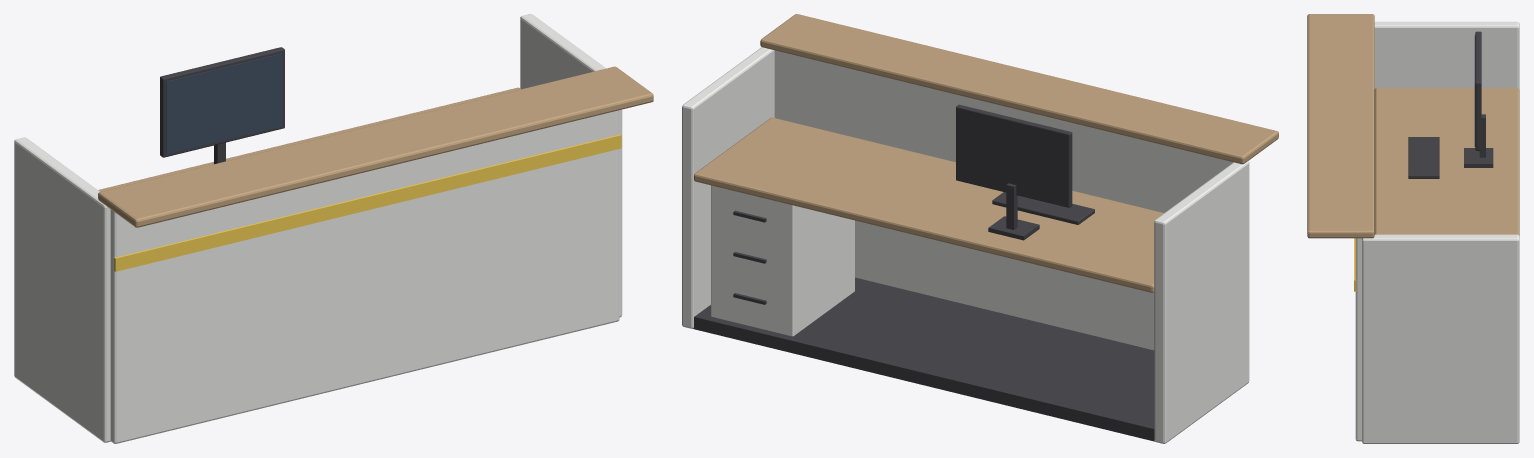
The model's file is INT_ReceptionDesk.fbx.
3 renders of one model, left to right at view 1: azimuth 30°, elevation 25°; view 2: azimuth 150°, elevation 25°; view 3: azimuth 270°, elevation 25°, orthographic. The views are drawn at different scales.
Visible parts, largest first — view 1: INT_ReceptionDesk_FrontPanel, INT_ReceptionDesk_SideL, INT_ReceptionDesk_Transaction_Top, INT_ReceptionDesk_MonitorScreen, INT_ReceptionDesk_AccentStrip, INT_ReceptionDesk_SideR, INT_ReceptionDesk_Monitor, INT_ReceptionDesk_WorkTop; view 2: INT_ReceptionDesk_FrontPanel, INT_ReceptionDesk_Plinth, INT_ReceptionDesk_WorkTop, INT_ReceptionDesk_SideL, INT_ReceptionDesk_Transaction_Top, INT_ReceptionDesk_Pedestal, INT_ReceptionDesk_SideR, INT_ReceptionDesk_Monitor, INT_ReceptionDesk_Keyboard, INT_ReceptionDesk_MonitorStand; view 3: INT_ReceptionDesk_SideR, INT_ReceptionDesk_WorkTop, INT_ReceptionDesk_Transaction_Top, INT_ReceptionDesk_SideL, INT_ReceptionDesk_FrontPanel, INT_ReceptionDesk_Keyboard, INT_ReceptionDesk_Monitor, INT_ReceptionDesk_MonitorStand, INT_ReceptionDesk_MonitorNeck, INT_ReceptionDesk_MonitorScreen.
Part boxes in pixels (x1=…): INT_ReceptionDesk_FrontPanel: x1=110, y1=110, x2=619, y2=443; INT_ReceptionDesk_SideL: x1=14, y1=137, x2=110, y2=442; INT_ReceptionDesk_Transaction_Top: x1=98, y1=66, x2=653, y2=227; INT_ReceptionDesk_MonitorScreen: x1=166, y1=53, x2=282, y2=154; INT_ReceptionDesk_AccentStrip: x1=114, y1=134, x2=621, y2=271; INT_ReceptionDesk_SideR: x1=520, y1=14, x2=622, y2=317; INT_ReceptionDesk_Monitor: x1=160, y1=47, x2=284, y2=157; INT_ReceptionDesk_WorkTop: x1=98, y1=87, x2=520, y2=191; INT_ReceptionDesk_FrontPanel: x1=774, y1=50, x2=1233, y2=350; INT_ReceptionDesk_Plinth: x1=692, y1=277, x2=1154, y2=441; INT_ReceptionDesk_WorkTop: x1=694, y1=117, x2=1163, y2=292; INT_ReceptionDesk_SideL: x1=1154, y1=161, x2=1249, y2=443; INT_ReceptionDesk_Transaction_Top: x1=760, y1=14, x2=1278, y2=164; INT_ReceptionDesk_Pedestal: x1=711, y1=185, x2=854, y2=336; INT_ReceptionDesk_SideR: x1=682, y1=47, x2=774, y2=328; INT_ReceptionDesk_Monitor: x1=956, y1=104, x2=1072, y2=207; INT_ReceptionDesk_Keyboard: x1=992, y1=192, x2=1094, y2=224; INT_ReceptionDesk_MonitorStand: x1=988, y1=216, x2=1039, y2=240; INT_ReceptionDesk_SideR: x1=1362, y1=234, x2=1519, y2=443; INT_ReceptionDesk_WorkTop: x1=1374, y1=88, x2=1519, y2=235; INT_ReceptionDesk_Transaction_Top: x1=1307, y1=14, x2=1374, y2=238; INT_ReceptionDesk_SideL: x1=1374, y1=21, x2=1519, y2=89; INT_ReceptionDesk_FrontPanel: x1=1355, y1=238, x2=1361, y2=441; INT_ReceptionDesk_Keyboard: x1=1408, y1=137, x2=1439, y2=178; INT_ReceptionDesk_Monitor: x1=1475, y1=31, x2=1481, y2=150; INT_ReceptionDesk_MonitorStand: x1=1464, y1=148, x2=1493, y2=167; INT_ReceptionDesk_MonitorNeck: x1=1479, y1=114, x2=1485, y2=157; INT_ReceptionDesk_MonitorScreen: x1=1474, y1=35, x2=1475, y2=146.
Size of the model in its own units: 246 by 130 by 101.
